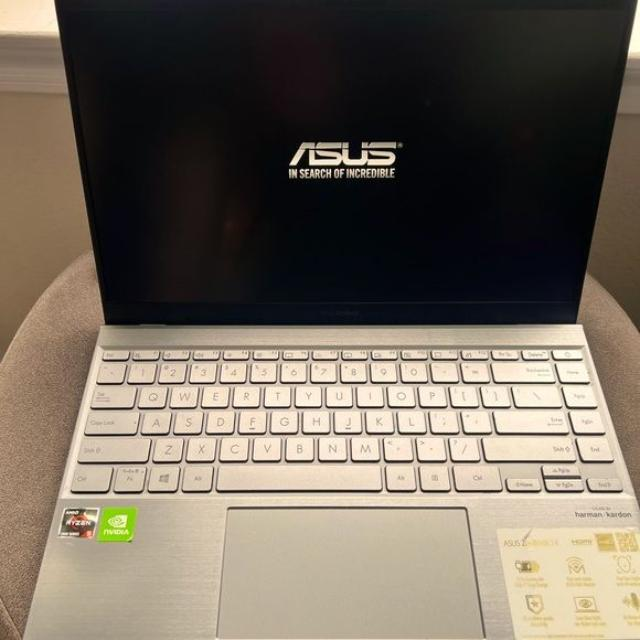laptop: (23, 1, 640, 635)
